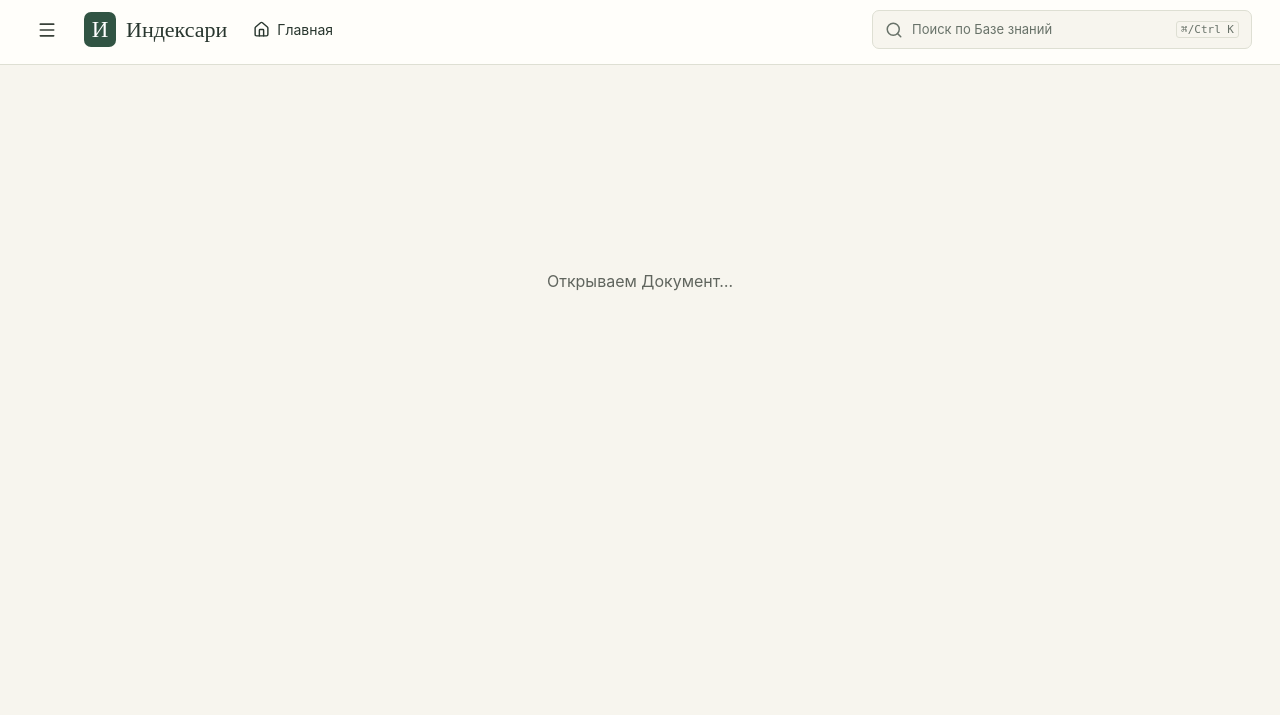
Atlas › distinguishes an idle search from a failed search
This screenshot has width=1280, height=715.
Press k
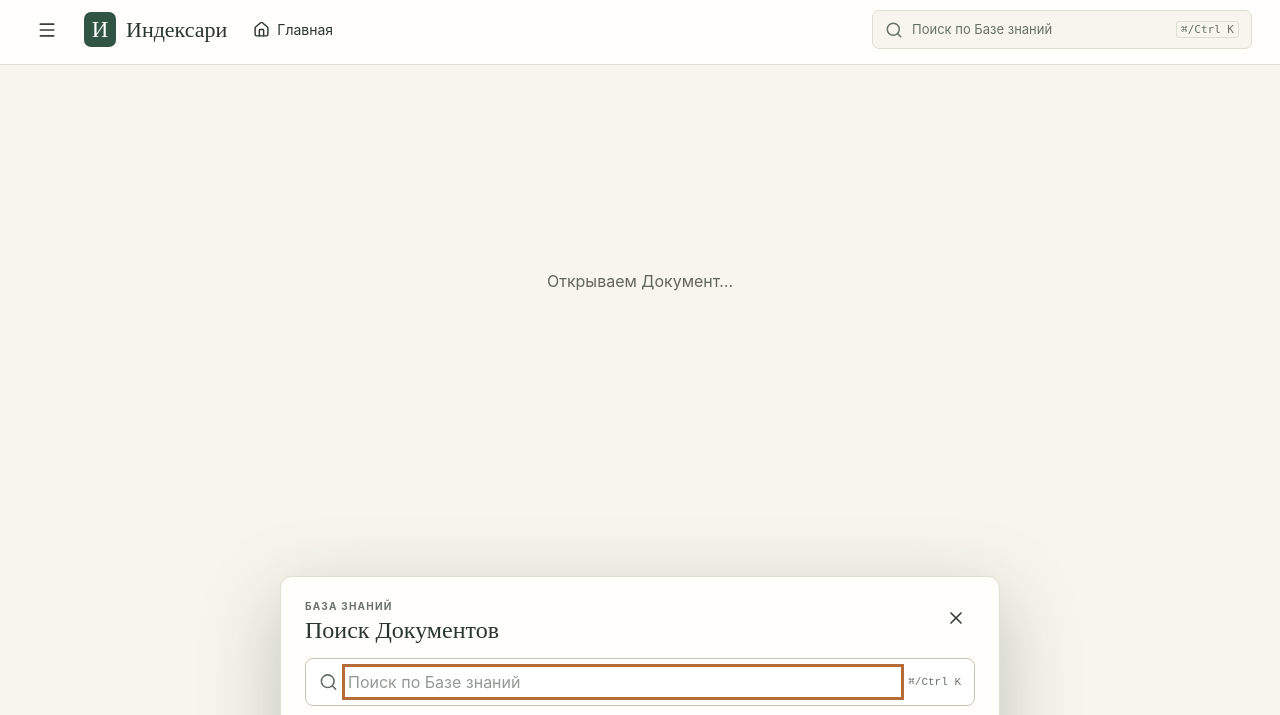
Type "ошибка" into the search field with placeholder "Поиск по Базе знаний".
click(623, 682); type("ошибка")  # box top-left (348, 670), bottom-right (898, 694)
(page scrolled)
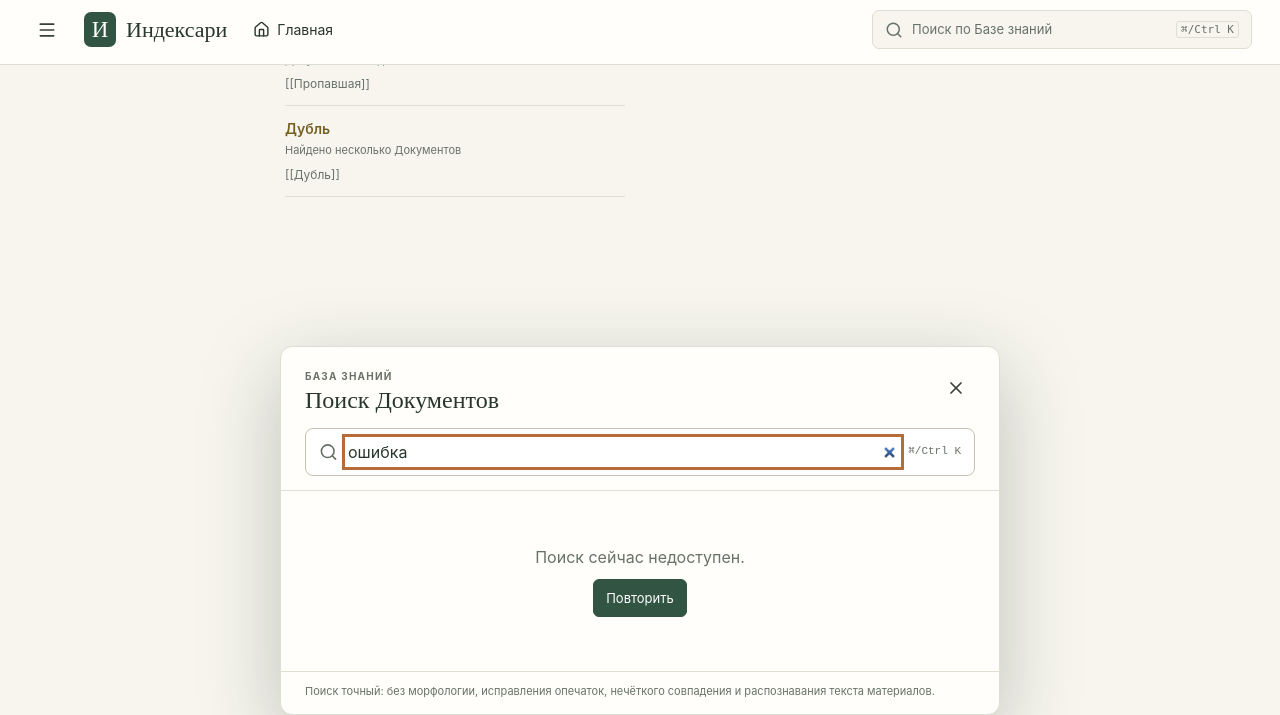
Now the text "Поиск сейчас недоступен." is shown, box top-left (535, 547), bottom-right (745, 567)
